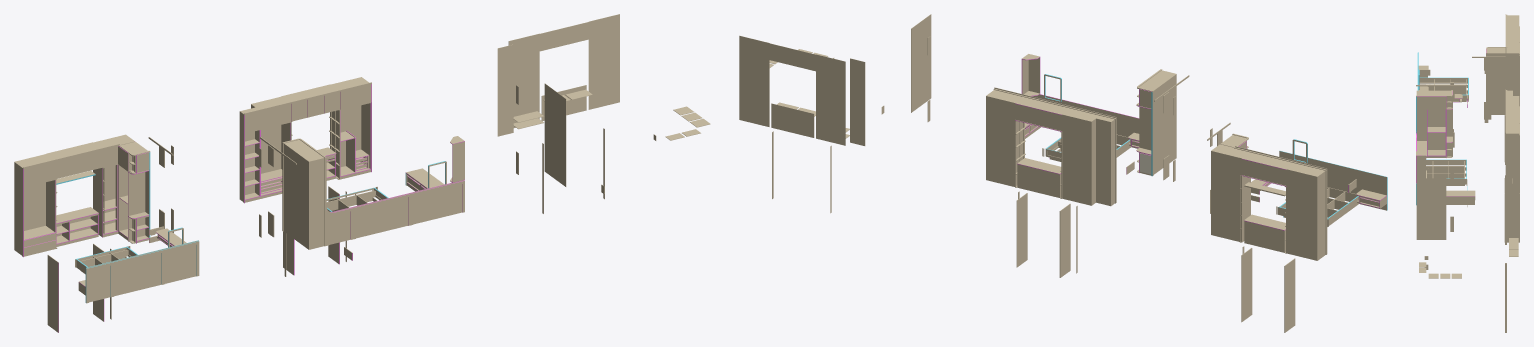
3 views of the same model, side by side, from view 1: azimuth 30°, elevation 25°; view 2: azimuth 150°, elevation 25°; view 3: azimuth 270°, elevation 25° (orthographic). The views are drawn at different scales.
Visible parts, largest first — view 1: Geom3D (×18), Geom3D_ABF_PART_1155____LYR_[Layer0]____1155. Đầu giường <Ch, Geom3D_ABF_PART_176____LYR_[Layer0]____176. Đầu giường <Chập, Geom3D_ABF_PART_10____LYR_[Layer0]____10. Đầu giường <Chập đ, Geom3D_ABF_PART_1209____LYR_[Layer0]____1209. Đầu giường <Ch, Geom3D_ABF_PART_679____LYR_[Layer0]____679. Hệ tủ áo - md 3 , Geom3D_ABF_PART_926____LYR_[Layer0]____926. Hệ tủ áo - md dư, Geom3D_ABF_PART_1235____LYR_[Layer0]____1235. Đầu giường <Ch, Geom3D_ABF_PART_1____LYR_[Layer0]____1. Đầu giường <Chập đôi, Geom3D_ABF_PART_622____LYR_[Layer0]____622. Hệ tủ áo - Tủ ti; view 2: Geom3D (×19), Geom3D_ABF_PART_622____LYR_[Layer0]____622. Hệ tủ áo - Tủ ti, Geom3D_ABF_PART_428____LYR_[Layer0]____428. Hệ tủ áo - Tủ ti, Geom3D_ABF_PART_334____LYR_[Layer0]____334. Hệ tủ áo - Tủ ti, Geom3D_ABF_PART_176____LYR_[Layer0]____176. Đầu giường <Chập, Geom3D_ABF_PART_679____LYR_[Layer0]____679. Hệ tủ áo - md 3 , Geom3D_ABF_PART_517____LYR_[Layer0]____517. Hệ tủ áo - md 4 , Geom3D_ABF_PART_926____LYR_[Layer0]____926. Hệ tủ áo - md dư, Geom3D_ABF_PART_924____LYR_[Layer0]____924. Hệ tủ áo - md dư, Geom3D_ABF_PART_457____LYR_[Layer0]____457. Hệ tủ áo - md 3 , Geom3D_ABF_PART_368____LYR_[Layer0]____368. Hệ tủ áo - md dư, Geom3D_ABF_PART_1155____LYR_[Layer0]____1155. Đầu giường <Ch (+1 smaller); view 3: Geom3D (×21), Geom3D_ABF_PART_517____LYR_[Layer0]____517. Hệ tủ áo - md 4 , Geom3D_ABF_PART_1270____LYR_[Layer0]____1270. Giường - Xương, Geom3D_ABF_PART_5____LYR_[Layer0]____5. Đôn ngồi - Hậu, Geom3D_ABF_PART_421____LYR_[Layer0]____421. Hệ tủ áo - md 3 , Geom3D_ABF_PART_44____LYR_[Layer0]____44. Kệ phấn - Hậu, Geom3D_ABF_PART_171____LYR_[Layer0]____171. Giường - Xương g, Geom3D_ABF_PART_6____LYR_[Layer0]____6. Đôn ngồi - Nóc, Geom3D_ABF_PART_557____LYR_[Layer0]____557. Giường - Xương g, Geom3D_ABF_PART_153____LYR_[_CÁNH]____153. Tủ áo - md 1 trên, Geom3D_ABF_PART_209____LYR_[Layer0]____209. Giường - Vai giư, Geom3D_ABF_PART_152____LYR_[_CÁNH]____152. Tủ áo - md 1 trên (+11 smaller).
Boxes of the visible parts, x1=… form: Geom3D (×18): x1=14, y1=14, x2=619, y2=255; Geom3D_ABF_PART_1155____LYR_[Layer0]____1155. Đầu giường <Ch: x1=353, y1=193, x2=410, y2=238; Geom3D_ABF_PART_176____LYR_[Layer0]____176. Đầu giường <Chập: x1=112, y1=249, x2=163, y2=296; Geom3D_ABF_PART_10____LYR_[Layer0]____10. Đầu giường <Chập đ: x1=410, y1=180, x2=464, y2=224; Geom3D_ABF_PART_1209____LYR_[Layer0]____1209. Đầu giường <Ch: x1=163, y1=240, x2=198, y2=283; Geom3D_ABF_PART_679____LYR_[Layer0]____679. Hệ tủ áo - md 3 : x1=539, y1=22, x2=588, y2=51; Geom3D_ABF_PART_926____LYR_[Layer0]____926. Hệ tủ áo - md dư: x1=47, y1=255, x2=58, y2=332; Geom3D_ABF_PART_1235____LYR_[Layer0]____1235. Đầu giường <Ch: x1=86, y1=261, x2=111, y2=302; Geom3D_ABF_PART_1____LYR_[Layer0]____1. Đầu giường <Chập đôi: x1=326, y1=207, x2=353, y2=244; Geom3D_ABF_PART_622____LYR_[Layer0]____622. Hệ tủ áo - Tủ ti: x1=541, y1=85, x2=586, y2=121; Geom3D (×19): x1=739, y1=32, x2=1325, y2=260; Geom3D_ABF_PART_622____LYR_[Layer0]____622. Hệ tủ áo - Tủ ti: x1=771, y1=103, x2=814, y2=137; Geom3D_ABF_PART_428____LYR_[Layer0]____428. Hệ tủ áo - Tủ ti: x1=1017, y1=164, x2=1060, y2=197; Geom3D_ABF_PART_334____LYR_[Layer0]____334. Hệ tủ áo - Tủ ti: x1=1244, y1=221, x2=1284, y2=252; Geom3D_ABF_PART_176____LYR_[Layer0]____176. Đầu giường <Chập: x1=1313, y1=159, x2=1361, y2=204; Geom3D_ABF_PART_679____LYR_[Layer0]____679. Hệ tủ áo - md 3 : x1=769, y1=43, x2=815, y2=71; Geom3D_ABF_PART_517____LYR_[Layer0]____517. Hệ tủ áo - md 4 : x1=1016, y1=193, x2=1027, y2=267; Geom3D_ABF_PART_926____LYR_[Layer0]____926. Hệ tủ áo - md dư: x1=1284, y1=258, x2=1295, y2=332; Geom3D_ABF_PART_924____LYR_[Layer0]____924. Hệ tủ áo - md dư: x1=1241, y1=248, x2=1252, y2=322; Geom3D_ABF_PART_457____LYR_[Layer0]____457. Hệ tủ áo - md 3 : x1=1015, y1=104, x2=1062, y2=130; Geom3D_ABF_PART_368____LYR_[Layer0]____368. Hệ tủ áo - md dư: x1=1059, y1=203, x2=1070, y2=277; Geom3D_ABF_PART_1155____LYR_[Layer0]____1155. Đầu giường <Ch: x1=1079, y1=104, x2=1134, y2=147; Geom3D (×21): x1=1416, y1=15, x2=1519, y2=239; Geom3D_ABF_PART_517____LYR_[Layer0]____517. Hệ tủ áo - md 4 : x1=1504, y1=193, x2=1519, y2=242; Geom3D_ABF_PART_1270____LYR_[Layer0]____1270. Giường - Xương: x1=1426, y1=167, x2=1466, y2=173; Geom3D_ABF_PART_5____LYR_[Layer0]____5. Đôn ngồi - Hậu: x1=1446, y1=196, x2=1474, y2=204; Geom3D_ABF_PART_421____LYR_[Layer0]____421. Hệ tủ áo - md 3 : x1=1507, y1=106, x2=1519, y2=123; Geom3D_ABF_PART_44____LYR_[Layer0]____44. Kệ phấn - Hậu: x1=1416, y1=155, x2=1425, y2=178; Geom3D_ABF_PART_171____LYR_[Layer0]____171. Giường - Xương g: x1=1427, y1=173, x2=1466, y2=178; Geom3D_ABF_PART_6____LYR_[Layer0]____6. Đôn ngồi - Nóc: x1=1446, y1=190, x2=1475, y2=196; Geom3D_ABF_PART_557____LYR_[Layer0]____557. Giường - Xương g: x1=1428, y1=84, x2=1467, y2=90; Geom3D_ABF_PART_153____LYR_[_CÁNH]____153. Tủ áo - md 1 trên: x1=1436, y1=96, x2=1446, y2=109; Geom3D_ABF_PART_209____LYR_[Layer0]____209. Giường - Vai giư: x1=1419, y1=79, x2=1465, y2=81; Geom3D_ABF_PART_152____LYR_[_CÁNH]____152. Tủ áo - md 1 trên: x1=1427, y1=96, x2=1436, y2=109.
Size of the model in its own units: 20.63 by 5.41 by 4.2.
